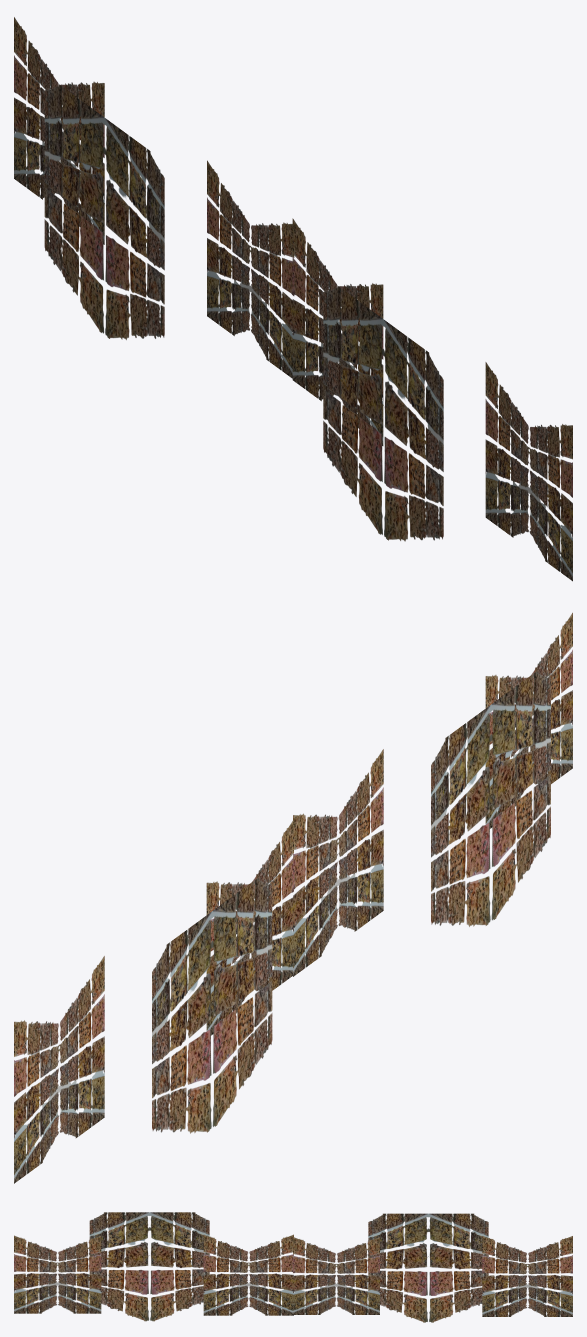
Rendered from pielpared.gltf.
The picture shows the model from 3 angles, top to bottom: view 1: azimuth 30°, elevation 25°; view 2: azimuth 150°, elevation 25°; view 3: azimuth 270°, elevation 25°; orthographic projection. The views are drawn at different scales.
Visible parts, largest first — view 1: 1677761_mirror-removebg-preview.001; view 2: 1677761_mirror-removebg-preview.001; view 3: 1677761_mirror-removebg-preview.001.
Part boxes in pixels (<box>): 1677761_mirror-removebg-preview.001: <box>14,17,572,581</box>; 1677761_mirror-removebg-preview.001: <box>14,612,572,1183</box>; 1677761_mirror-removebg-preview.001: <box>14,1212,572,1322</box>.
Size of the model in its own units: 0.9018 by 3.52 by 16.2.
Materials: 6 (6 with a texture image).
